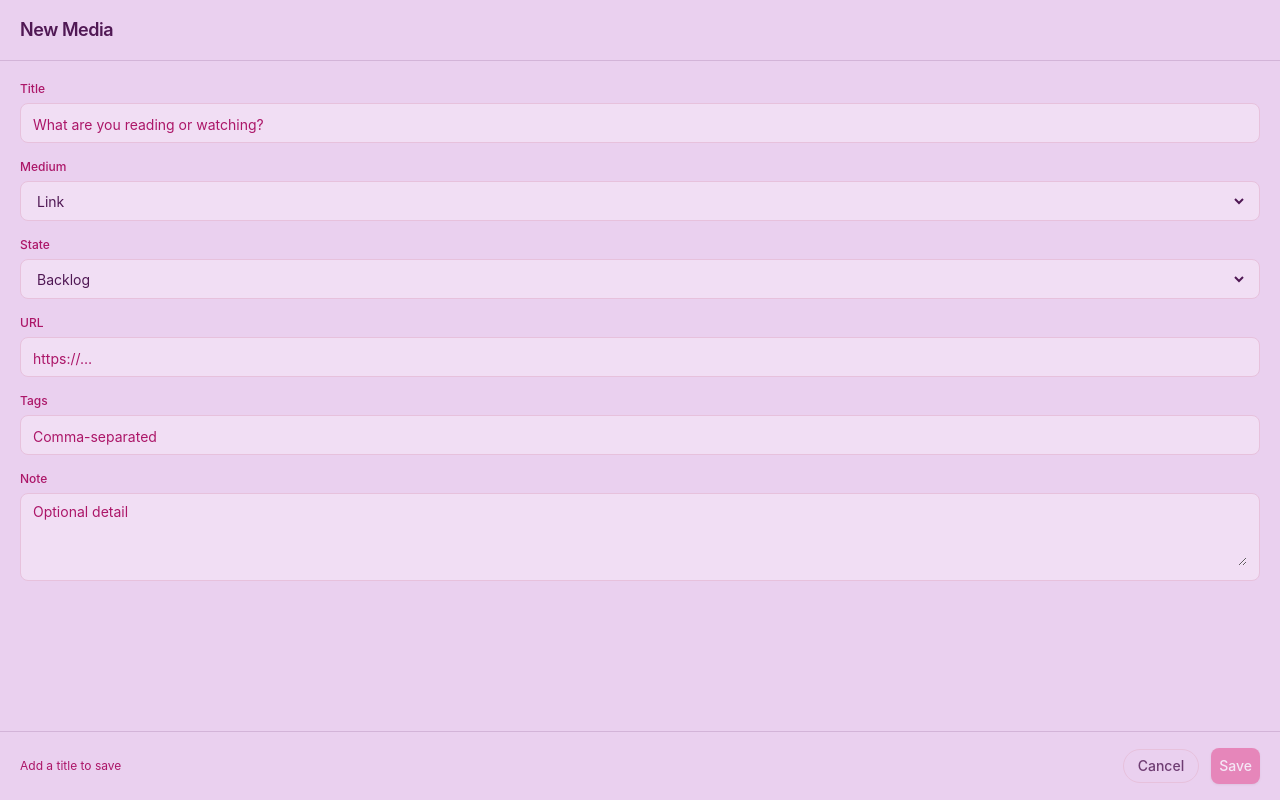
Test: MediaEditor create › hides rating + finished inputs while the state is non-terminal, reveals them on a terminal state
This screenshot has width=1280, height=800.
expect the field labelled "rating" is not shown: met
expect the field labelled "finished" is not shown: met
Note: Flip to a terminal state → both appear.
Select "Done" in the dropdown labelled "State": (640, 279) [33,260,1247,298]
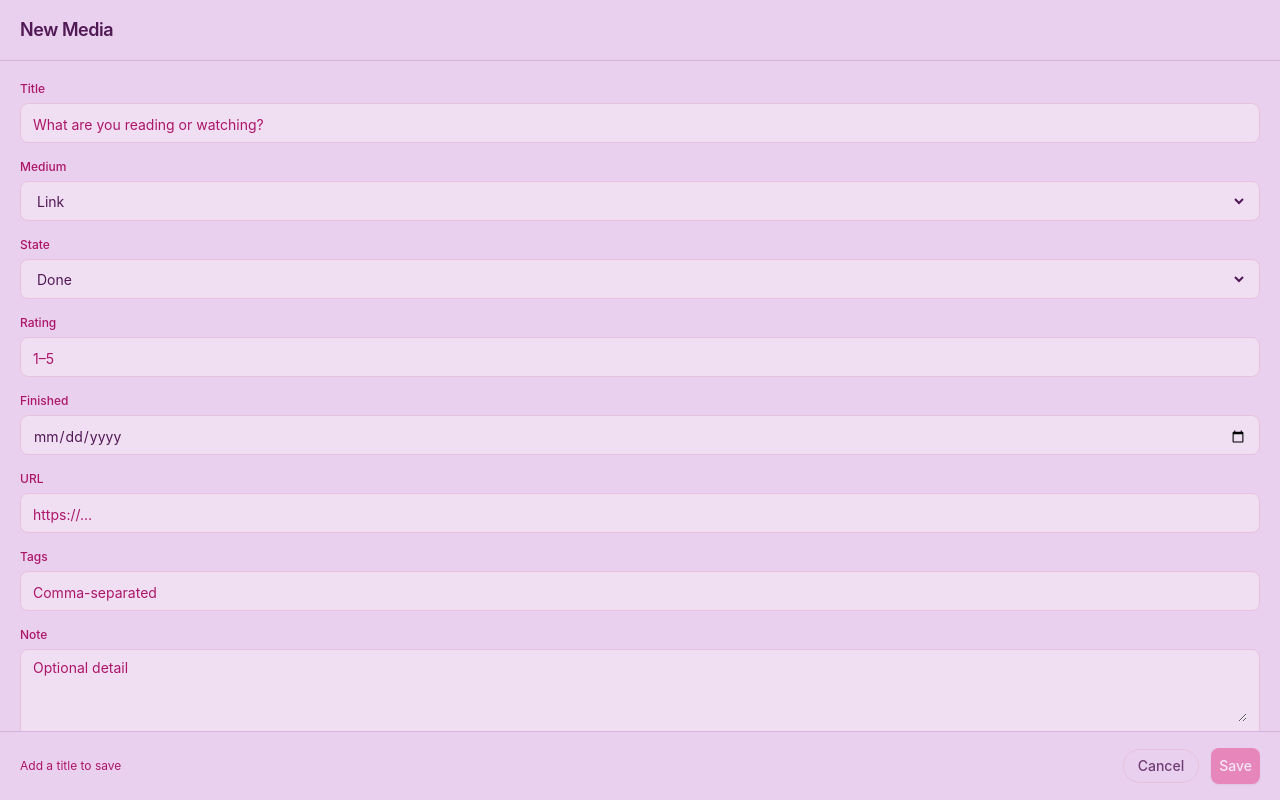
expect the number field labelled "Rating" is shown: met, box [33,349,1247,369]
expect the date field labelled "Finished" is shown: met, box [33,427,1247,447]
